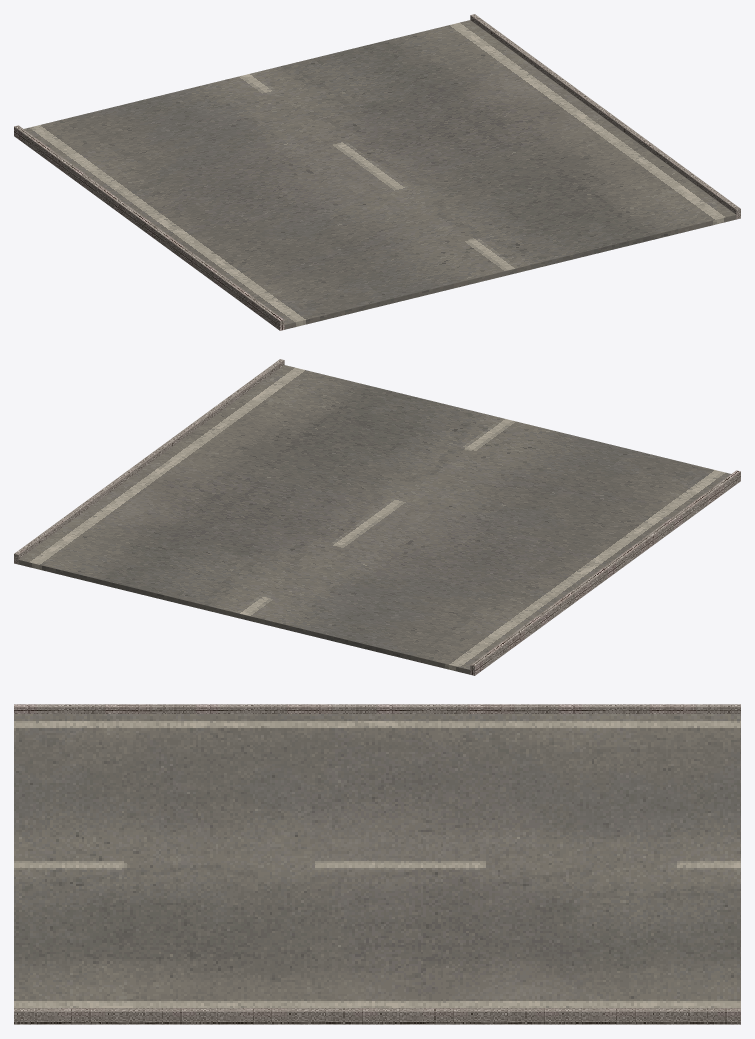
File: road_4_straight_no_sides.glb
The picture shows the model from 3 angles, top to bottom: view 1: azimuth 30°, elevation 25°; view 2: azimuth 150°, elevation 25°; view 3: azimuth 270°, elevation 25°; orthographic projection. The views are drawn at different scales.
Visible parts, largest first — view 1: road_4_straight_no_sides; view 2: road_4_straight_no_sides; view 3: road_4_straight_no_sides.
Part boxes in pixels (x1,y1,x2,y2): road_4_straight_no_sides: [14, 14, 740, 330]; road_4_straight_no_sides: [14, 359, 740, 675]; road_4_straight_no_sides: [14, 704, 740, 1024].
Size of the model in its own units: 16 by 0.32 by 16.
2 materials, 2 textured.
